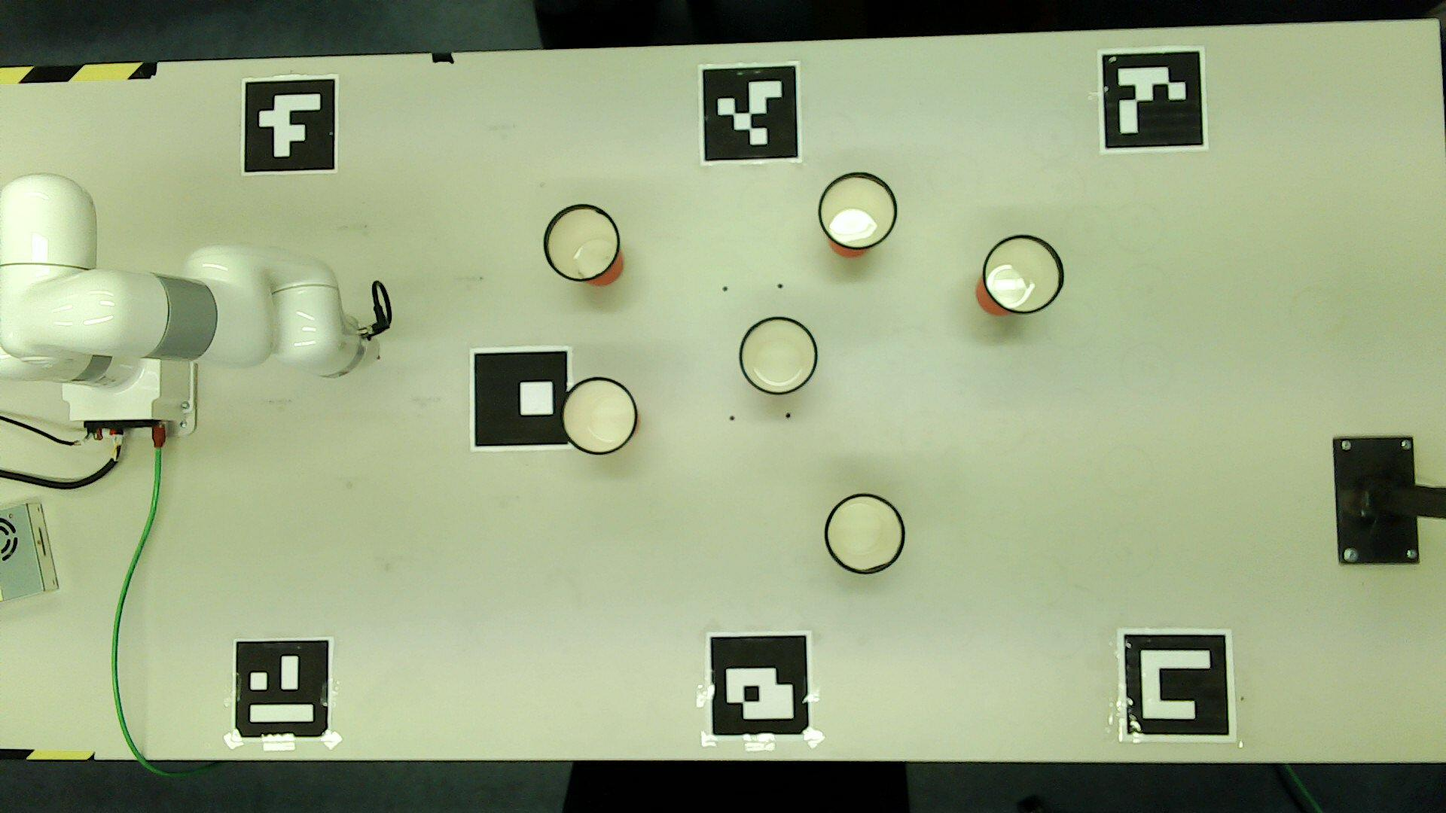cup: (826, 494, 904, 573), (984, 236, 1063, 313), (819, 173, 896, 249), (741, 318, 816, 393), (545, 205, 618, 281), (563, 378, 636, 454)
